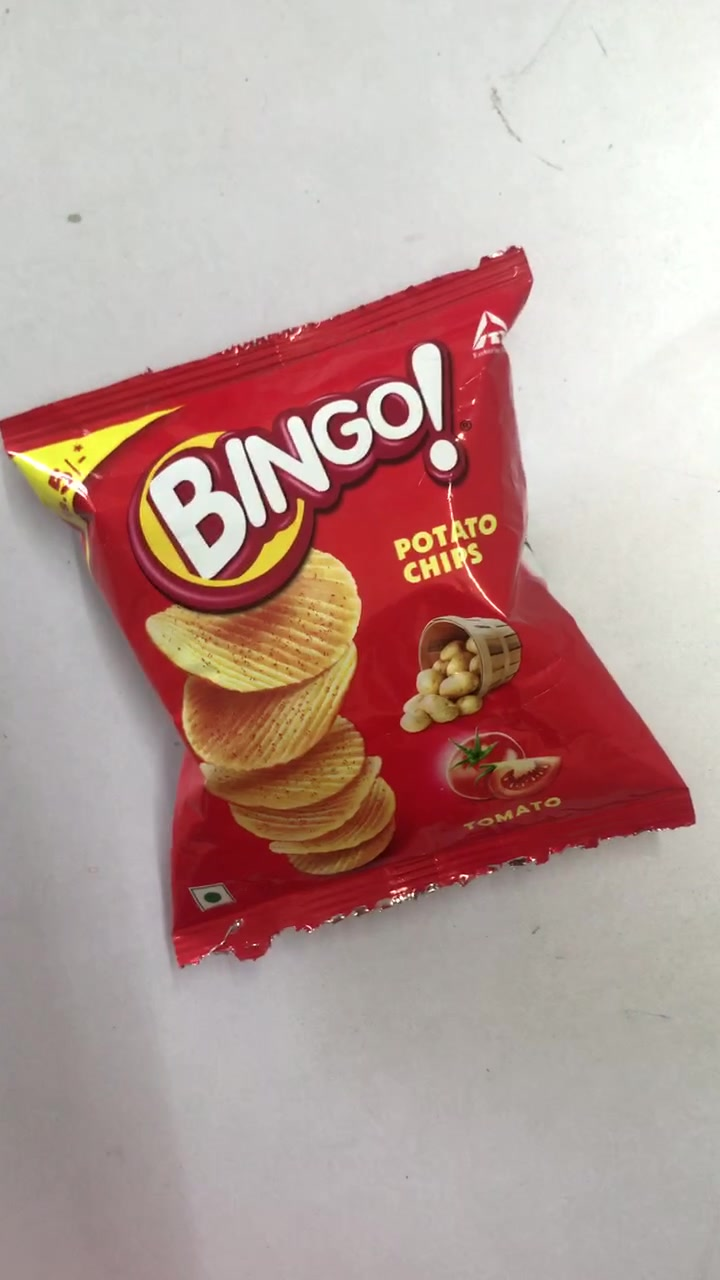Bingo: (2, 288, 695, 945)
